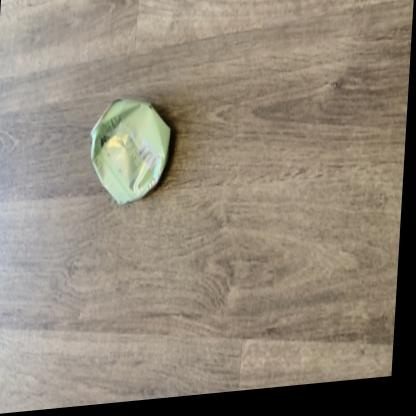trash: (91, 99, 169, 203)
